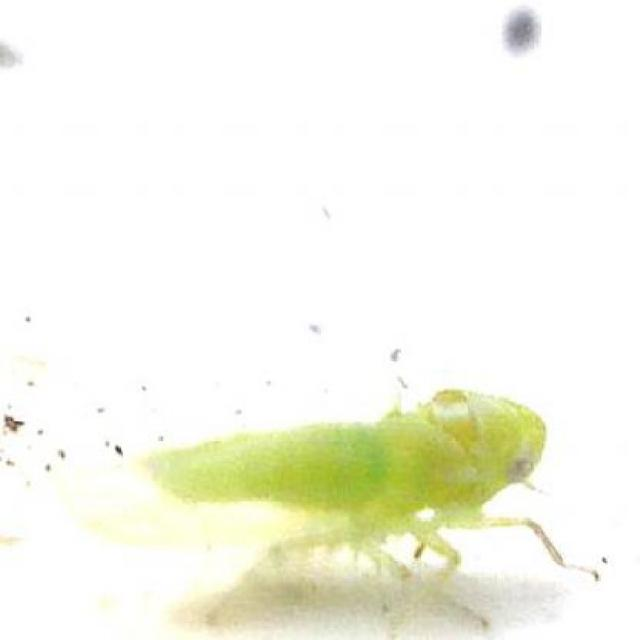green-leafhopper: (140, 397, 555, 581)
